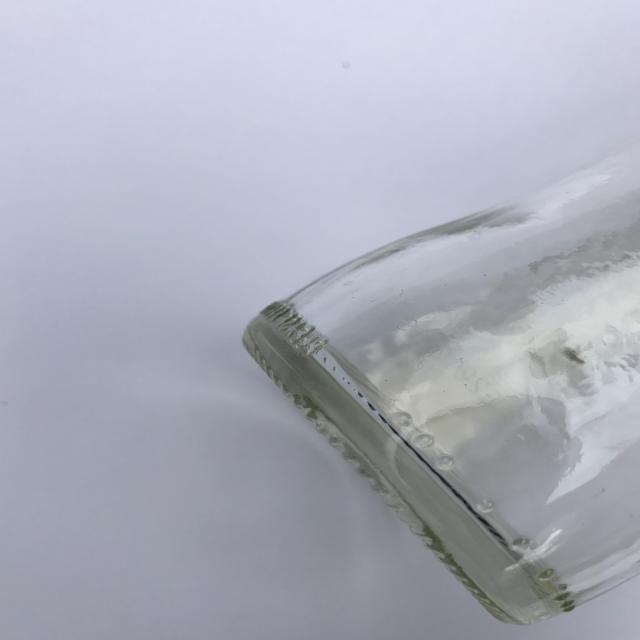glass: (241, 150, 640, 626)
